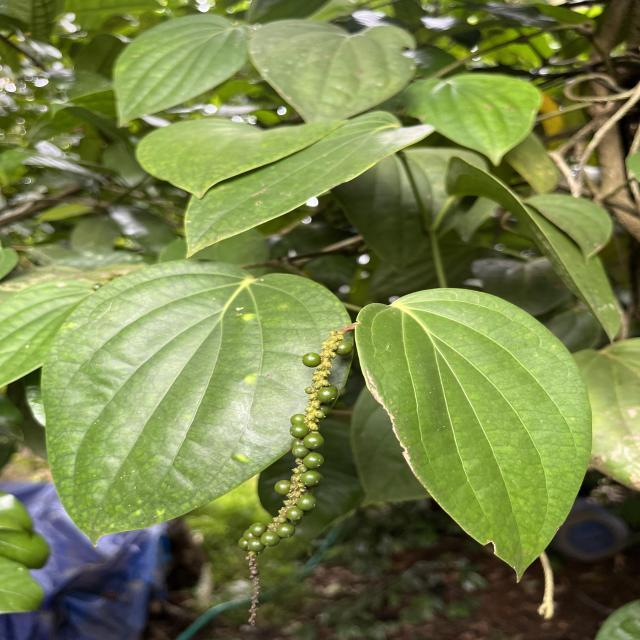Piper nigrum: (39, 256, 355, 550), (354, 286, 594, 585)
